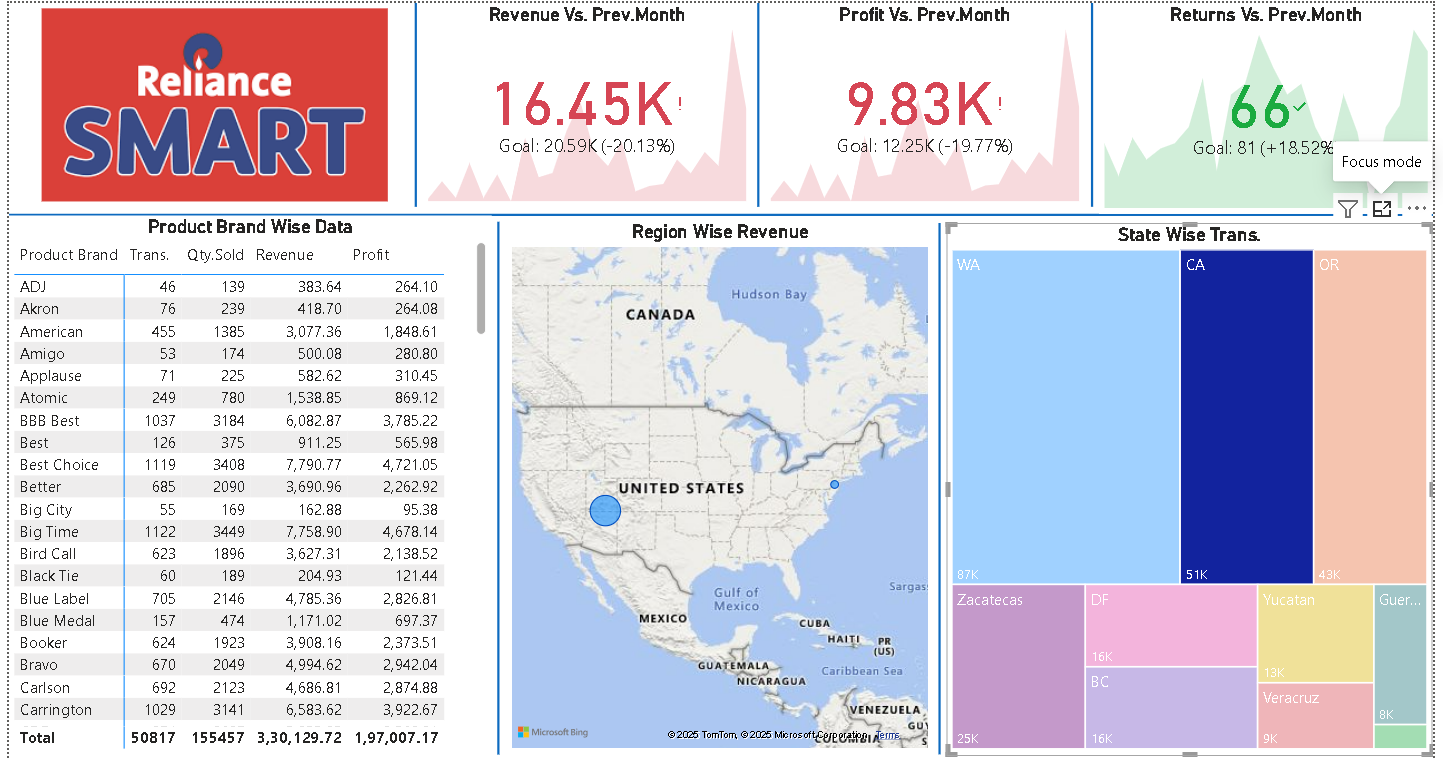

Layout of this report page (visuals, bound fields, positions):
{"tool":"powerbi","page":{"name":"Primary Report","canvas":[1280,720],"ordinal":0},"visuals":[{"type":"image","box":[9.8,0,349.7,183.4],"z":0},{"type":"shape","box":[0,183.9,1280.3,12.3],"z":1000},{"type":"pivotTable","title":"Product Brand Wise Data","fields":{"Rows":["D_Products.product_brand"],"Values":["Measures (2).M_Total_Transaction","Measures (2).M_Quantity_Sold","Measures (2).M_Total_Revenue","Measures (2).M_Total_Profit"]},"box":[0,190.7,433.6,484.4],"z":2000},{"type":"shape","box":[433.6,196.2,12.3,478.9],"z":3000},{"type":"map","title":"Region Wise Revenue","fields":{"Category":["D_Regions.sales_region"],"Size":["Measures (2).M_Total_Revenue"]},"box":[446.7,195.5,384.2,479.3],"z":4000},{"type":"shape","box":[830.9,198.2,12.2,477.9],"z":5000},{"type":"treemap","title":"State Wise Trans.","fields":{"Group":["D_Stores.store_state"],"Values":["Measures (2).M_Total_Transaction"]},"box":[843.1,198.2,437.2,477.9],"z":6000},{"type":"shape","box":[359.5,0,12.2,183.4],"z":7000},{"type":"kpi","title":"Revenue Vs. Prev.Month","fields":{"Indicator":["Measures (2).M_Total_Revenue"],"TrendLine":["D_Calendar.Start of Month"],"Goal":["Measures (2).M_Previous_month_Revenue"]},"box":[371.7,0,295.9,183.4],"z":8000},{"type":"shape","box":[667.7,0,12.2,183.4],"z":9000},{"type":"kpi","title":"Profit Vs. Prev.Month","fields":{"TrendLine":["D_Calendar.Start of Month"],"Goal":["Measures (2).M_Previous_Month_Profit"],"Indicator":["Measures (2).M_Total_Profit"]},"box":[679.9,0,287.4,183.4],"z":10000},{"type":"shape","box":[967.3,0,12.2,183.4],"z":11000},{"type":"kpi","title":"Returns Vs. Prev.Month","fields":{"TrendLine":["D_Calendar.Start of Month"],"Indicator":["Measures (2).M_Total_Returns"],"Goal":["Measures (2).M_Previous_Month_Returns"]},"box":[979.5,0,300.8,189.5],"z":12000}]}

Visuals, with their boxes on the page's 1280x720 design canvas (x1, y1, x2, y2). These are canvas units, not pixel positions in the 1443x760 screenshot, which may show the page scaled, cropped or inside an application window:
image: box(10, 0, 360, 183)
shape: box(0, 184, 1280, 196)
"Product Brand Wise Data" pivotTable: box(0, 191, 434, 675)
shape: box(434, 196, 446, 675)
"Region Wise Revenue" map: box(447, 196, 831, 675)
shape: box(831, 198, 843, 676)
"State Wise Trans." treemap: box(843, 198, 1280, 676)
shape: box(360, 0, 372, 183)
"Revenue Vs. Prev.Month" kpi: box(372, 0, 668, 183)
shape: box(668, 0, 680, 183)
"Profit Vs. Prev.Month" kpi: box(680, 0, 967, 183)
shape: box(967, 0, 980, 183)
"Returns Vs. Prev.Month" kpi: box(980, 0, 1280, 190)
